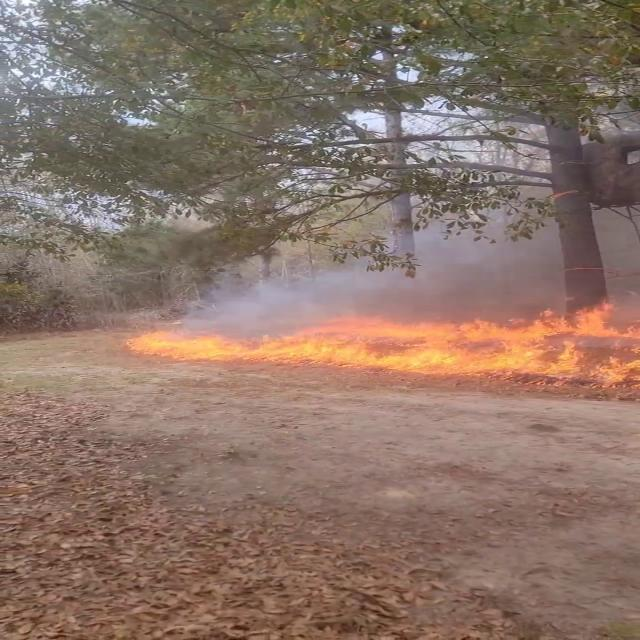Fire: (127, 308, 638, 374)
Smoke: (252, 206, 640, 328)
